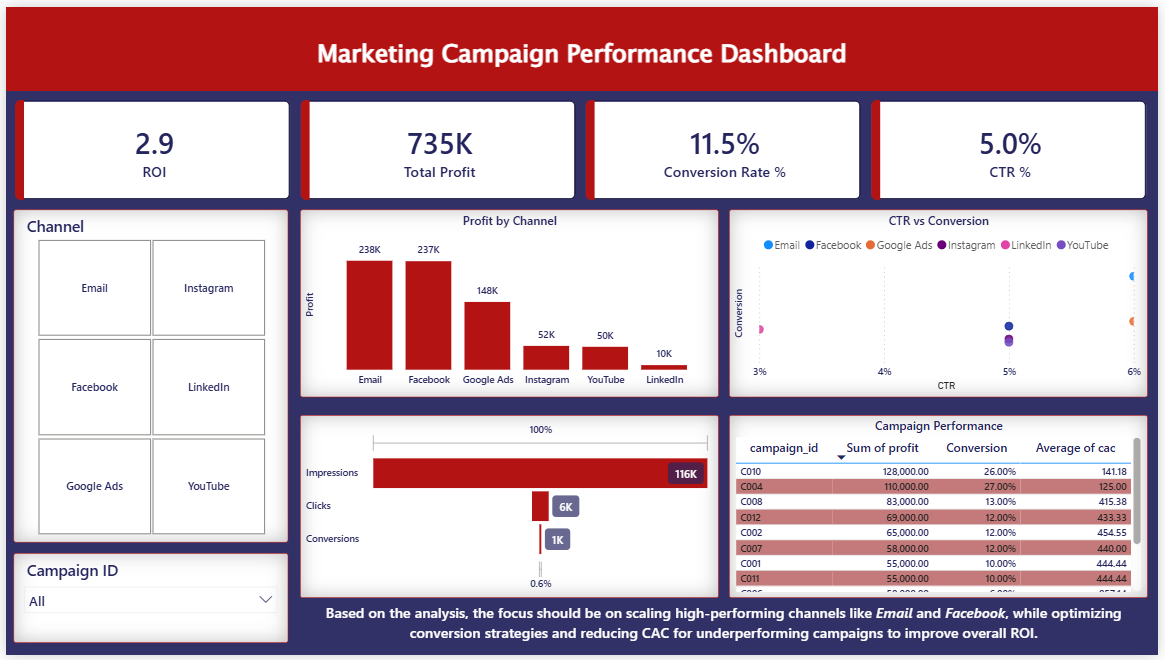

The dashboard page shown, as its layout file describes it:
{"tool":"powerbi","page":{"name":"Page 1","canvas":[1280,720],"ordinal":0},"visuals":[{"type":"shape","box":[0,0,1280,93.3],"z":0},{"type":"textbox","box":[208.3,26.7,863.3,66.7],"z":1},{"type":"cardVisual","fields":{"Data":["public market.ROI","public market.Total Profit","public market.Avg conversion Rate","public market.avg CTR"]},"box":[0,93.3,1280,131.7],"z":2},{"type":"columnChart","fields":{"Category":["public market.channel"],"Y":["Sum(public market.profit)"]},"box":[326.7,225,465,208.3],"z":3},{"type":"scatterChart","title":"CTR vs Conversion","fields":{"X":["Avg(public market.ctr)"],"Y":["Avg(public market.conversion_rate)"],"Series":["public market.channel"]},"box":[803.3,225,465,208.3],"z":4},{"type":"funnel","fields":{"Y":["Sum(public market.impressions)","Sum(public market.clicks)","Sum(public market.conversions)"]},"box":[326.7,453.3,465,203.3],"z":5},{"type":"tableEx","title":"Campaign Performance","fields":{"Values":["public market.campaign_id","Sum(public market.profit)","Avg(public market.conversion_rate)","Avg(public market.cac)"]},"box":[803.3,453.3,465,203.3],"z":6},{"type":"slicer","fields":{"Values":["public market.channel"]},"box":[8.3,225,305,370],"z":7},{"type":"slicer","fields":{"Values":["public market.campaign_id"]},"box":[8.3,606.7,305,100],"z":8},{"type":"textbox","box":[326.7,656.7,941.7,60],"z":9}]}

Visuals, with their boxes in screenshot pixels (x1, y1, x2, y2), scaled from the page's 1280x720 canvas onto the 1165x660 screenshot:
shape: bbox=[0, 0, 1164, 86]
textbox: bbox=[190, 24, 975, 86]
cardVisual - public market.ROI x public market.Total Profit: bbox=[0, 86, 1164, 206]
columnChart - public market.channel x Sum(public market.profit): bbox=[297, 206, 721, 397]
"CTR vs Conversion" scatterChart: bbox=[731, 206, 1154, 397]
funnel - Sum(public market.impressions) x Sum(public market.clicks): bbox=[297, 416, 721, 602]
"Campaign Performance" tableEx: bbox=[731, 416, 1154, 602]
slicer - public market.channel: bbox=[8, 206, 285, 545]
slicer - public market.campaign_id: bbox=[8, 556, 285, 648]
textbox: bbox=[297, 602, 1154, 657]
